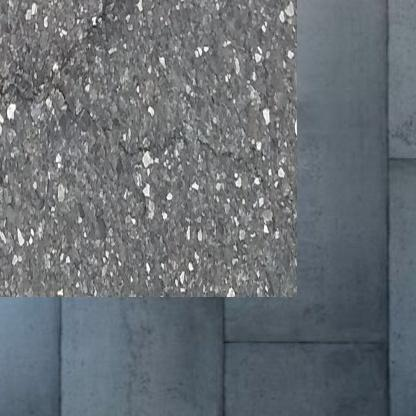Cracks: (0, 0, 140, 94)
